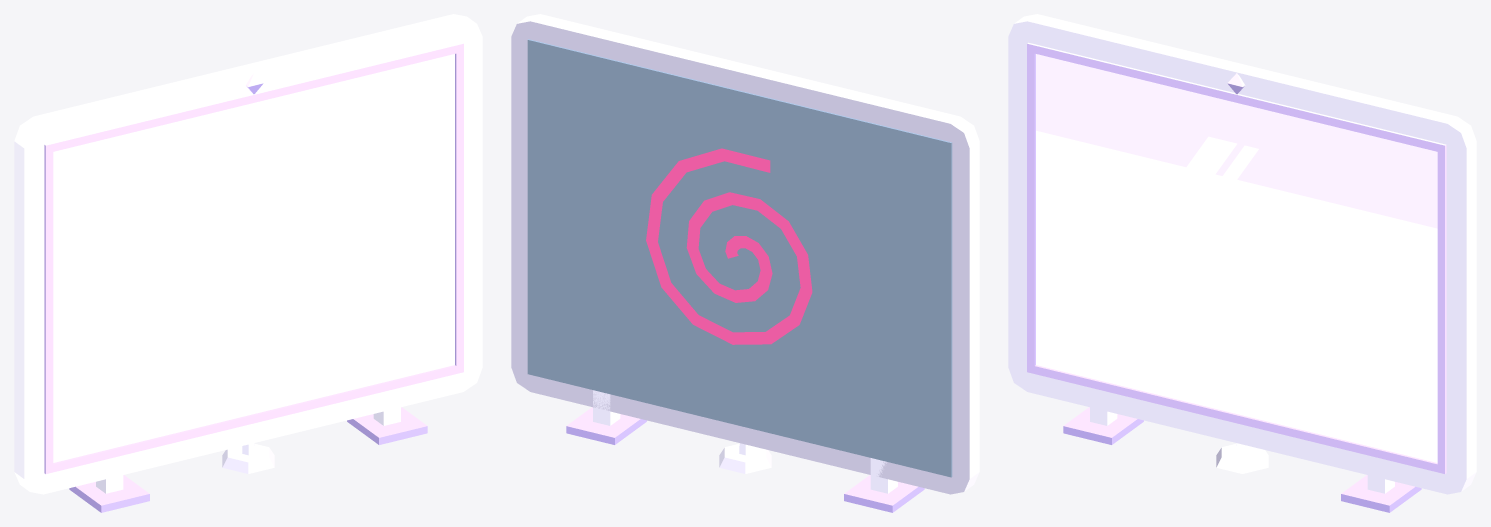
Rendered from turn-mirror.glb.
3 views of the same model, side by side, from view 1: azimuth 30°, elevation 25°; view 2: azimuth 150°, elevation 25°; view 3: azimuth 330°, elevation 25° (orthographic).
Parts seen in each view (by area): view 1: turn-mirror; view 2: turn-mirror; view 3: turn-mirror.
Boxes of the visible parts, x1,y1,x2,y2 form: turn-mirror: (14, 14, 482, 512); turn-mirror: (511, 14, 979, 512); turn-mirror: (1008, 14, 1476, 512).
Size of the model in its own units: 13.2 by 10.8 by 1.6.
